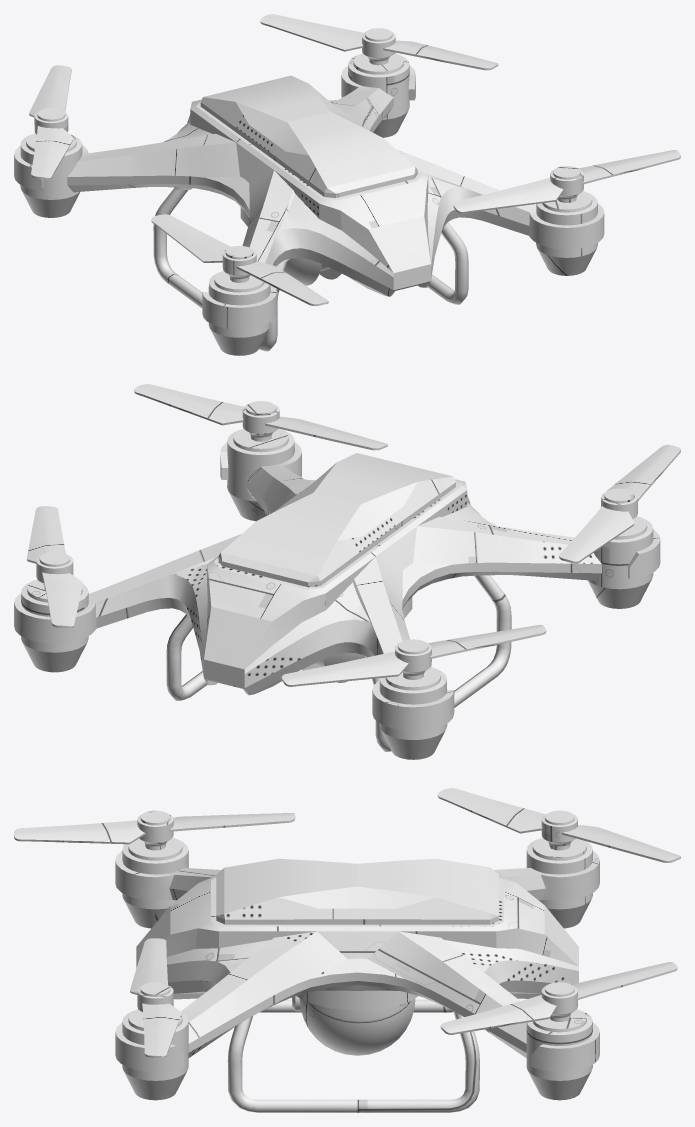
Rendered from drone.obj.
The picture shows the model from 3 angles, top to bottom: view 1: azimuth 30°, elevation 25°; view 2: azimuth 150°, elevation 25°; view 3: azimuth 270°, elevation 25°; orthographic projection. The views are drawn at different scales.
Visible parts, largest first — view 1: quadrocopter_body_object_Material_0, quadrocopter_bumper_object_Material_0, quadrocopter_propeller_1_object_Material_0, quadrocopter_propeller_4_object_Material_0, quadrocopter_propeller_2_object_Material_0, quadrocopter_propeller_3_object_Material_0, quadrocopter_cam2_object_Material_0; view 2: quadrocopter_body_object_Material_0, quadrocopter_bumper_object_Material_0, quadrocopter_propeller_3_object_Material_0, quadrocopter_propeller_2_object_Material_0, quadrocopter_propeller_1_object_Material_0, quadrocopter_propeller_4_object_Material_0; view 3: quadrocopter_body_object_Material_0, quadrocopter_bumper_object_Material_0, quadrocopter_cam2_object_Material_0, quadrocopter_propeller_2_object_Material_0, quadrocopter_propeller_3_object_Material_0, quadrocopter_propeller_4_object_Material_0, quadrocopter_propeller_1_object_Material_0.
Boxes of the visible parts, bbox=[...] form: quadrocopter_body_object_Material_0: bbox=[14, 28, 604, 355]; quadrocopter_bumper_object_Material_0: bbox=[153, 187, 468, 351]; quadrocopter_propeller_1_object_Material_0: bbox=[453, 150, 680, 213]; quadrocopter_propeller_4_object_Material_0: bbox=[260, 14, 498, 70]; quadrocopter_propeller_2_object_Material_0: bbox=[151, 214, 328, 305]; quadrocopter_propeller_3_object_Material_0: bbox=[29, 65, 73, 179]; quadrocopter_cam2_object_Material_0: bbox=[284, 258, 341, 285]; quadrocopter_body_object_Material_0: bbox=[14, 401, 660, 759]; quadrocopter_bumper_object_Material_0: bbox=[166, 575, 511, 751]; quadrocopter_propeller_3_object_Material_0: bbox=[281, 625, 546, 686]; quadrocopter_propeller_2_object_Material_0: bbox=[559, 444, 680, 563]; quadrocopter_propeller_1_object_Material_0: bbox=[134, 384, 387, 450]; quadrocopter_propeller_4_object_Material_0: bbox=[26, 506, 82, 628]; quadrocopter_body_object_Material_0: bbox=[115, 810, 599, 1100]; quadrocopter_bumper_object_Material_0: bbox=[227, 999, 479, 1112]; quadrocopter_cam2_object_Material_0: bbox=[299, 998, 415, 1055]; quadrocopter_propeller_2_object_Material_0: bbox=[14, 813, 295, 844]; quadrocopter_propeller_3_object_Material_0: bbox=[437, 788, 680, 862]; quadrocopter_propeller_4_object_Material_0: bbox=[440, 962, 677, 1034]; quadrocopter_propeller_1_object_Material_0: bbox=[130, 938, 181, 1058].
Size of the model in its own units: 1050 by 344 by 1108.
